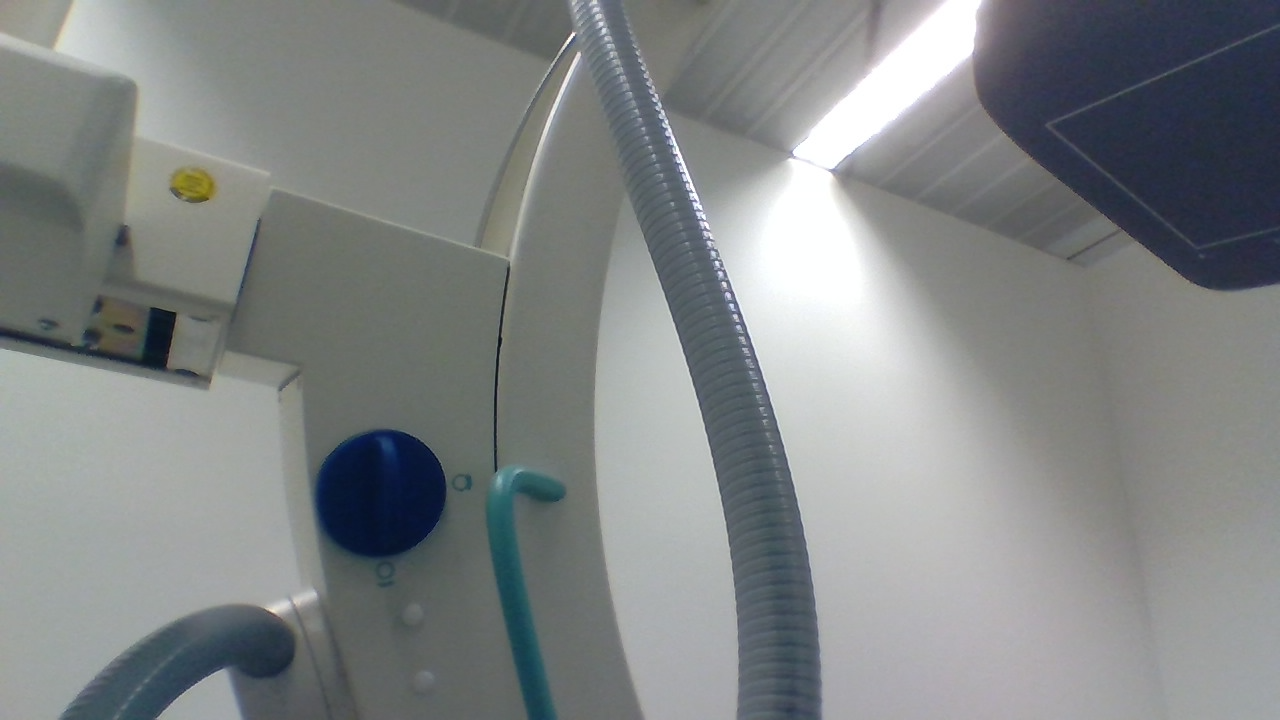carmLOCK: (316, 426, 447, 559)
